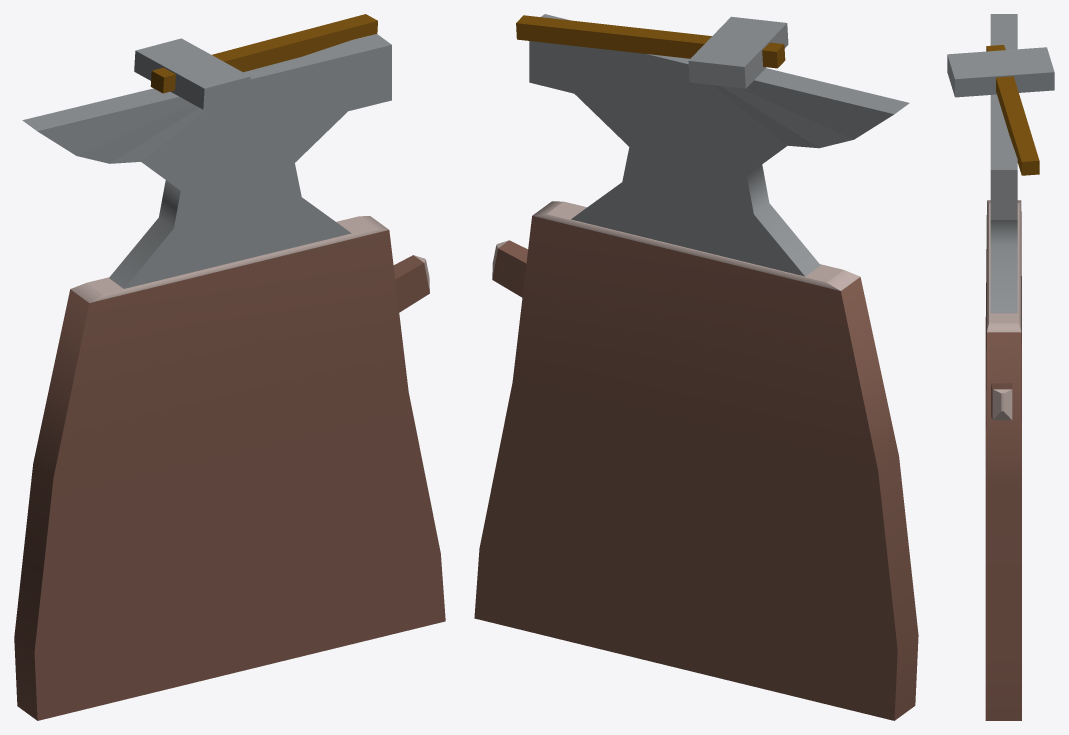
File: Yunque Carton.FBX
3 views of the same model, side by side, from view 1: azimuth 30°, elevation 25°; view 2: azimuth 150°, elevation 25°; view 3: azimuth 270°, elevation 25° (orthographic). The views are drawn at different scales.
Visible parts, largest first — view 1: Box001; view 2: Box001; view 3: Box001.
Part boxes in pixels (left/top/right/bottom): Box001: left=14, top=14, right=445, bottom=720; Box001: left=474, top=14, right=918, bottom=720; Box001: left=947, top=14, right=1054, bottom=720.
Bounding box in the file's own units: 20.59 × 5.17 × 29.34.
